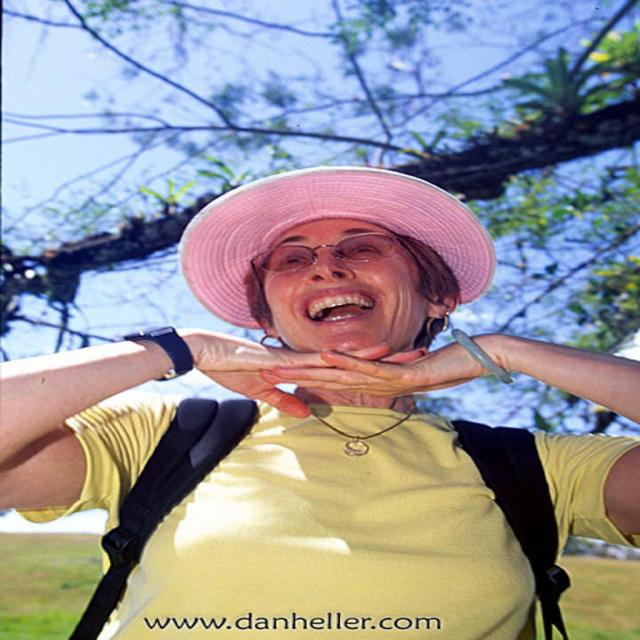nomask: (266, 219, 428, 352)
